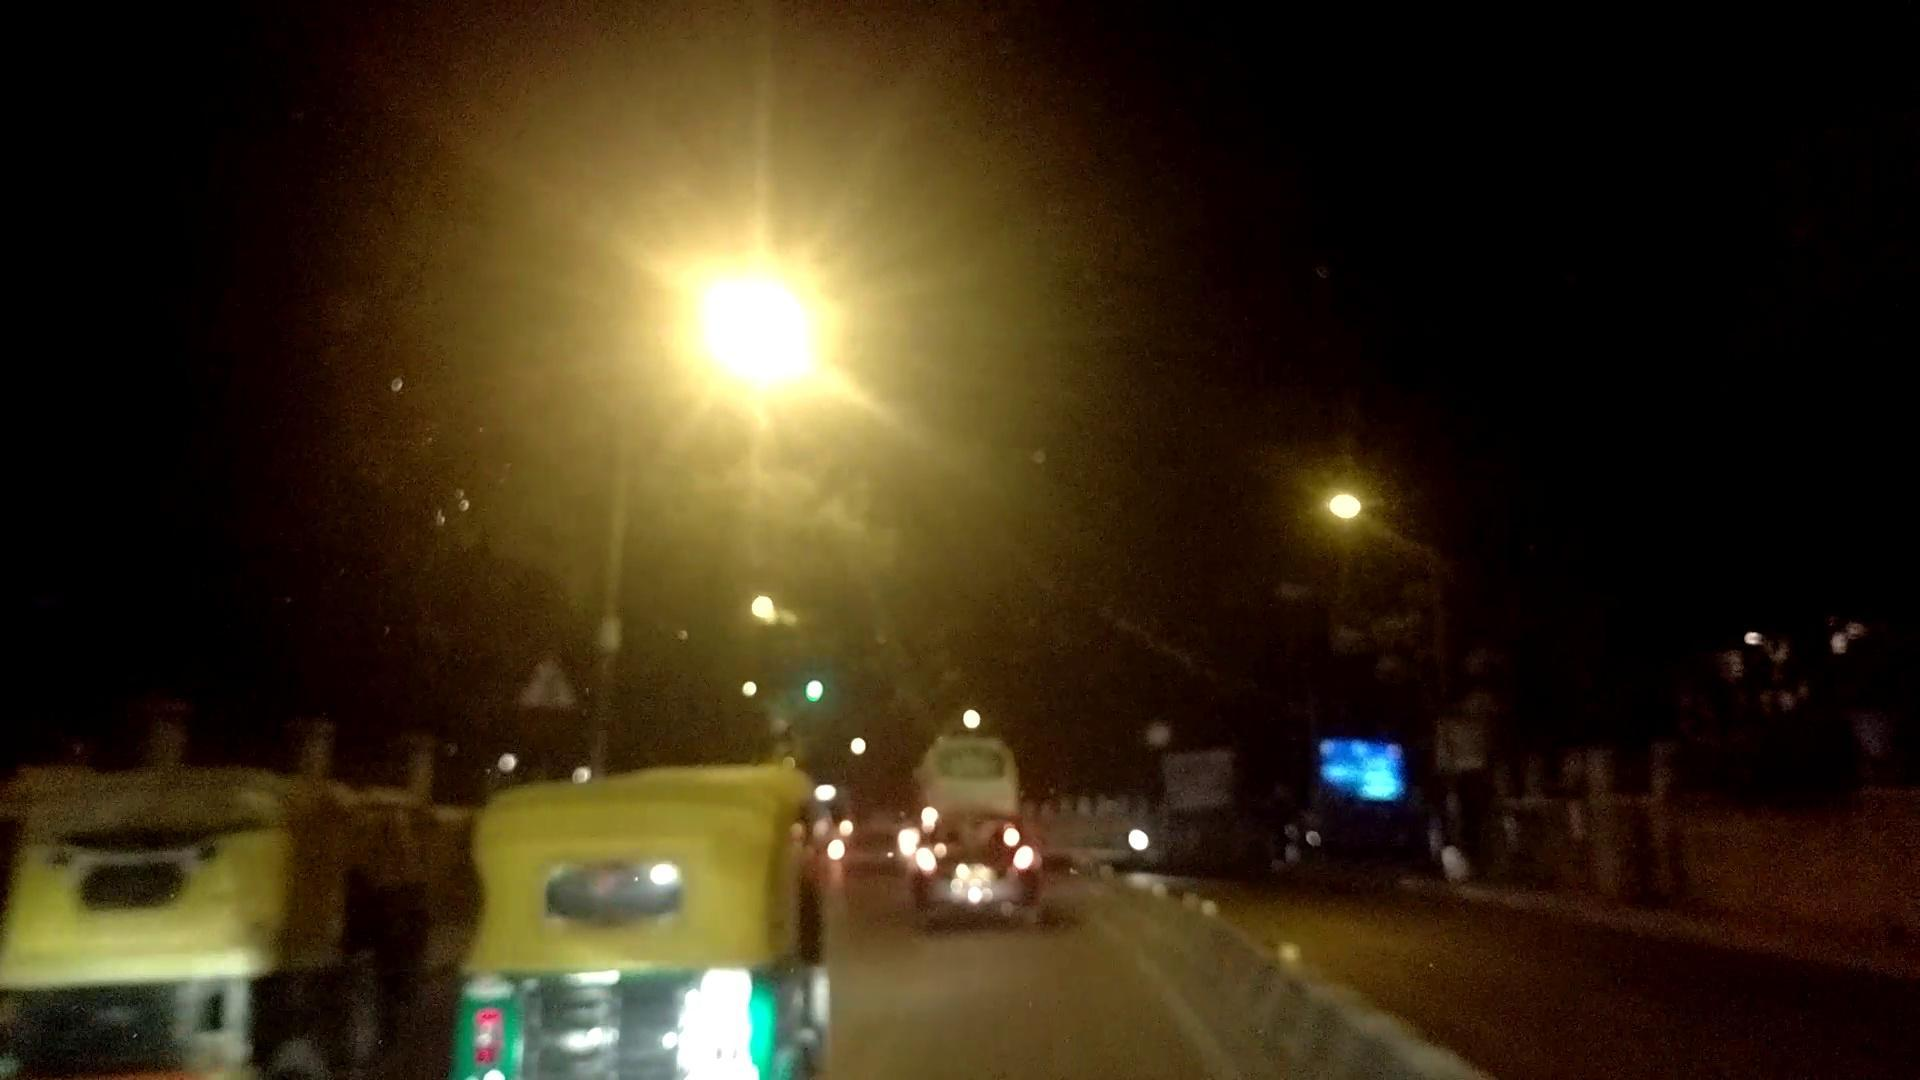on: (440, 42, 1015, 579)
